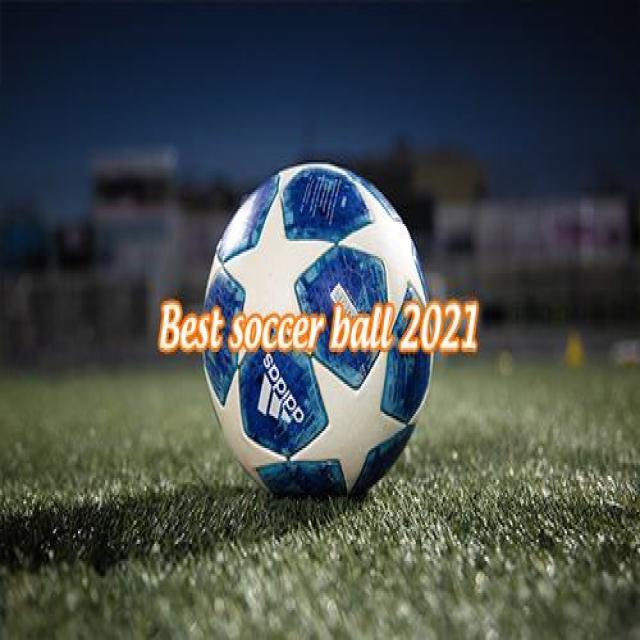soccer ball: (202, 164, 435, 503)
